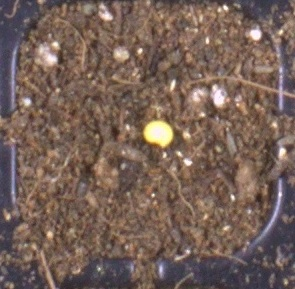chilli seed: (142, 120, 174, 148)
